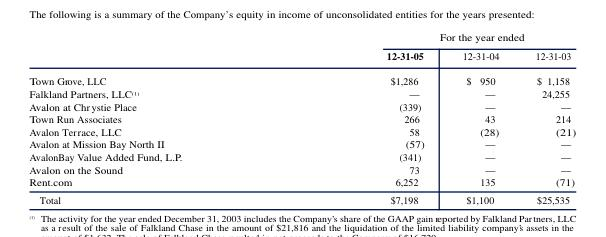table: (28, 29, 575, 205)
table column: (28, 29, 283, 205), (283, 29, 442, 205), (442, 29, 516, 205), (516, 29, 575, 205)
table column header: (28, 29, 575, 68)
table row: (28, 45, 575, 68), (28, 68, 575, 86), (28, 29, 575, 45), (28, 175, 575, 190), (28, 190, 575, 205), (28, 86, 575, 99), (28, 111, 575, 124), (28, 124, 575, 137), (28, 149, 575, 162), (28, 162, 575, 175), (28, 99, 575, 111), (28, 137, 575, 149)
table spanning cell: (283, 29, 575, 45)
